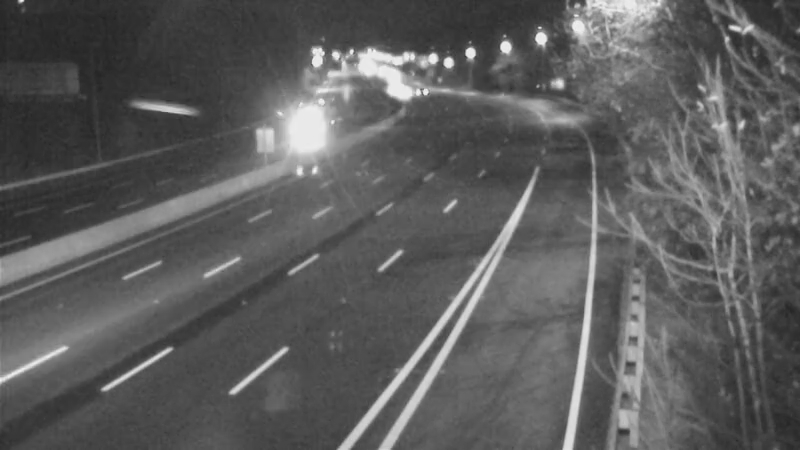vehicle: (372, 63, 422, 113), (392, 66, 442, 116), (379, 70, 429, 120), (274, 109, 324, 159)
